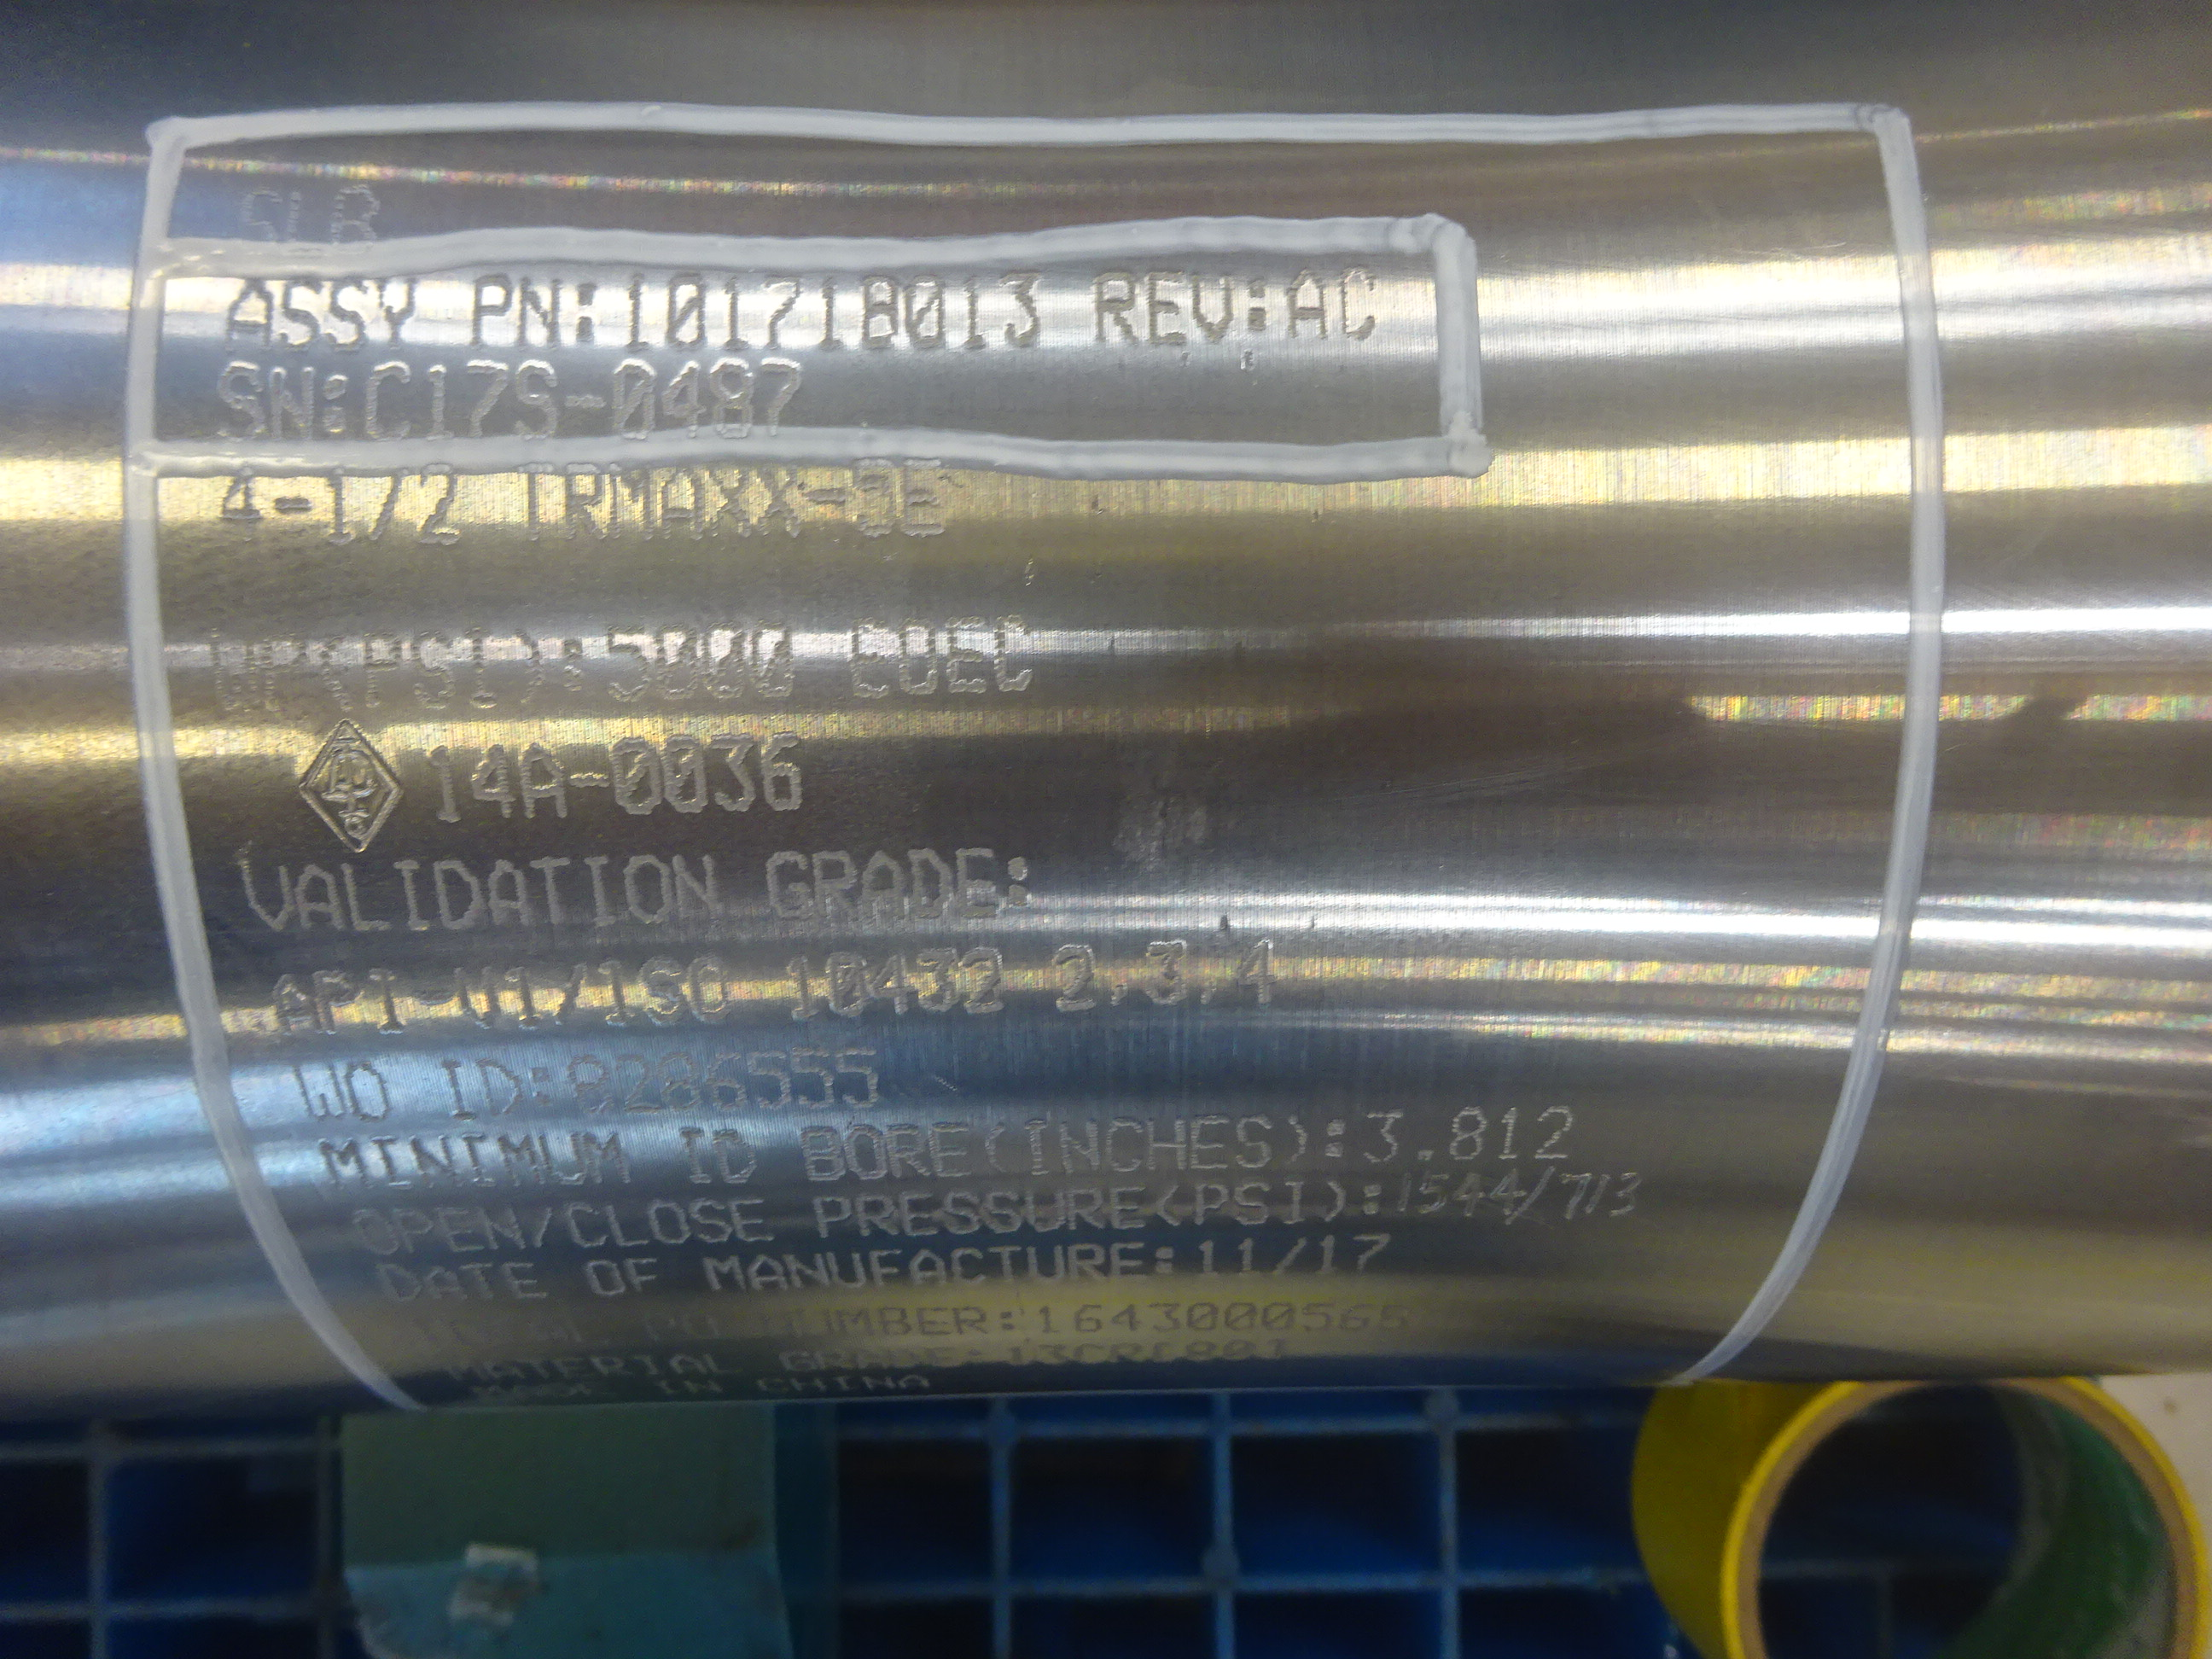character: (207, 352, 275, 443), (1082, 261, 1148, 354), (655, 261, 719, 355), (354, 357, 421, 446), (232, 847, 300, 936), (265, 350, 324, 450), (751, 352, 815, 443), (1217, 927, 1285, 1012), (895, 267, 956, 361), (214, 272, 279, 361), (1275, 260, 1338, 349), (460, 349, 516, 448), (752, 727, 813, 817), (368, 263, 427, 355), (509, 267, 571, 354), (421, 852, 489, 932), (1038, 934, 1104, 1016), (944, 836, 1007, 922), (1132, 936, 1195, 1021), (655, 727, 711, 821), (991, 263, 1049, 354), (855, 840, 913, 931), (415, 735, 470, 828), (507, 355, 561, 450), (615, 850, 681, 927), (702, 350, 758, 441), (284, 1056, 355, 1126), (758, 840, 817, 924), (1186, 258, 1237, 355), (610, 727, 662, 821), (848, 267, 902, 357), (273, 267, 326, 359), (315, 272, 373, 355), (808, 836, 862, 925), (523, 850, 578, 936), (1143, 261, 1193, 355), (906, 836, 956, 931), (462, 267, 516, 354), (1332, 256, 1381, 352), (707, 720, 754, 819), (658, 352, 711, 441), (563, 732, 615, 821), (817, 950, 876, 1028), (293, 854, 347, 939), (587, 953, 641, 1039), (336, 854, 394, 934), (491, 1126, 556, 1197), (413, 349, 460, 446), (516, 732, 566, 823), (470, 739, 524, 823), (578, 845, 627, 936), (608, 355, 658, 443), (561, 1053, 625, 1121), (308, 1131, 376, 1195), (479, 850, 531, 934), (314, 960, 369, 1039), (827, 1040, 890, 1110), (742, 1042, 799, 1117), (711, 1121, 768, 1195), (632, 953, 688, 1030), (958, 939, 1014, 1016), (608, 265, 655, 355), (448, 958, 507, 1030), (881, 1107, 934, 1187), (709, 265, 756, 354), (672, 838, 719, 927), (956, 263, 1000, 359), (655, 1046, 709, 1122), (561, 355, 608, 443), (260, 974, 322, 1039), (1345, 1103, 1404, 1171), (756, 272, 805, 354), (406, 1126, 462, 1197), (911, 939, 958, 1023), (543, 960, 596, 1035), (970, 1112, 1024, 1183), (1526, 1101, 1585, 1166), (1050, 1112, 1106, 1180), (686, 950, 733, 1030), (805, 272, 848, 357), (779, 950, 826, 1028), (617, 1042, 664, 1121), (404, 960, 458, 1028), (925, 1115, 979, 1183), (364, 960, 413, 1035), (1143, 1108, 1195, 1178), (580, 1124, 634, 1190), (502, 960, 550, 1033), (1190, 1110, 1237, 1185), (390, 850, 432, 934), (341, 1060, 395, 1124), (705, 1046, 751, 1122), (840, 1121, 892, 1187), (874, 950, 921, 1023), (1101, 1107, 1148, 1180), (536, 1124, 587, 1192), (1440, 1103, 1491, 1169), (439, 1049, 484, 1122), (683, 1194, 742, 1249), (481, 1040, 521, 1122), (791, 1040, 834, 1115), (728, 1185, 779, 1249), (796, 1121, 845, 1187), (343, 1208, 406, 1258), (1512, 1161, 1562, 1223), (597, 1195, 653, 1251), (845, 1190, 900, 1246), (559, 1195, 611, 1255), (368, 1126, 411, 1195), (432, 1201, 488, 1255), (801, 1188, 855, 1244), (1101, 1234, 1155, 1290), (1062, 1232, 1113, 1290), (1228, 1110, 1277, 1169), (475, 1202, 529, 1255), (977, 1187, 1026, 1241), (1061, 1185, 1109, 1239), (678, 1114, 712, 1188), (1103, 1182, 1148, 1239), (894, 1190, 944, 1241), (1264, 1232, 1315, 1283), (1021, 1110, 1055, 1183), (1611, 1161, 1646, 1234), (578, 1253, 627, 1305), (1226, 1176, 1273, 1230), (937, 1185, 982, 1241), (500, 1249, 545, 1305), (1188, 1175, 1231, 1232), (369, 1262, 427, 1305), (460, 1124, 495, 1195), (1275, 1110, 1317, 1169), (782, 1249, 831, 1300), (941, 1241, 991, 1290), (1181, 1234, 1228, 1286), (425, 1253, 470, 1307), (1021, 1232, 1066, 1286), (1346, 1232, 1392, 1284), (1151, 1180, 1193, 1236), (1411, 1164, 1453, 1220), (1581, 1159, 1616, 1225), (1273, 1173, 1313, 1230), (1489, 1103, 1526, 1166), (1446, 1169, 1491, 1220), (397, 1201, 435, 1260), (618, 1249, 660, 1303), (1486, 1169, 1526, 1225), (1371, 1297, 1418, 1344), (826, 1246, 874, 1291), (1308, 1230, 1352, 1281), (1024, 1185, 1066, 1237), (650, 1195, 688, 1251), (458, 1258, 503, 1305), (902, 1244, 949, 1290), (1313, 1173, 1353, 1225), (1226, 1232, 1264, 1286), (745, 1249, 792, 1293), (874, 1298, 918, 1345), (693, 1255, 749, 1291), (1294, 1293, 1336, 1340), (523, 1201, 561, 1251), (1137, 1297, 1188, 1335), (986, 1243, 1029, 1286), (914, 1300, 956, 1345), (1561, 1161, 1588, 1222), (867, 1244, 902, 1293), (951, 1300, 991, 1342), (1332, 1297, 1371, 1340), (1104, 1298, 1144, 1337), (1184, 1297, 1223, 1337), (1064, 1298, 1106, 1335), (1388, 1168, 1418, 1218), (1219, 1297, 1258, 1335), (1258, 1293, 1294, 1333), (1035, 1297, 1061, 1335)
